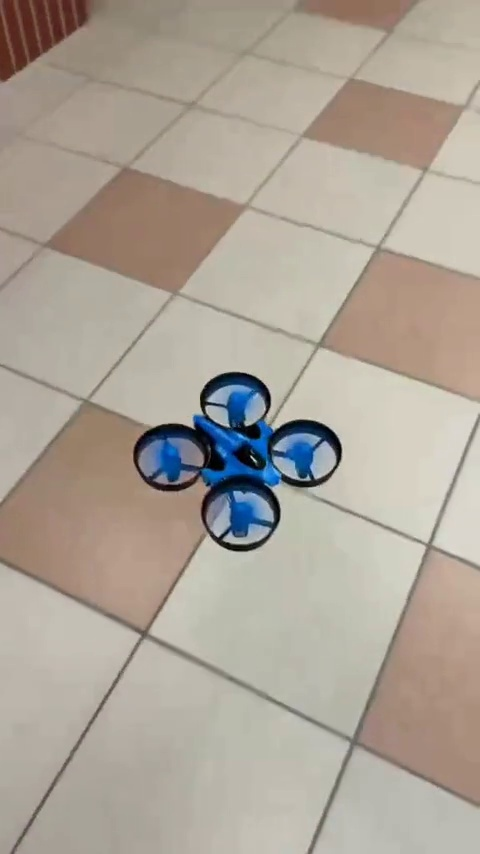drone: (134, 375, 345, 542)
